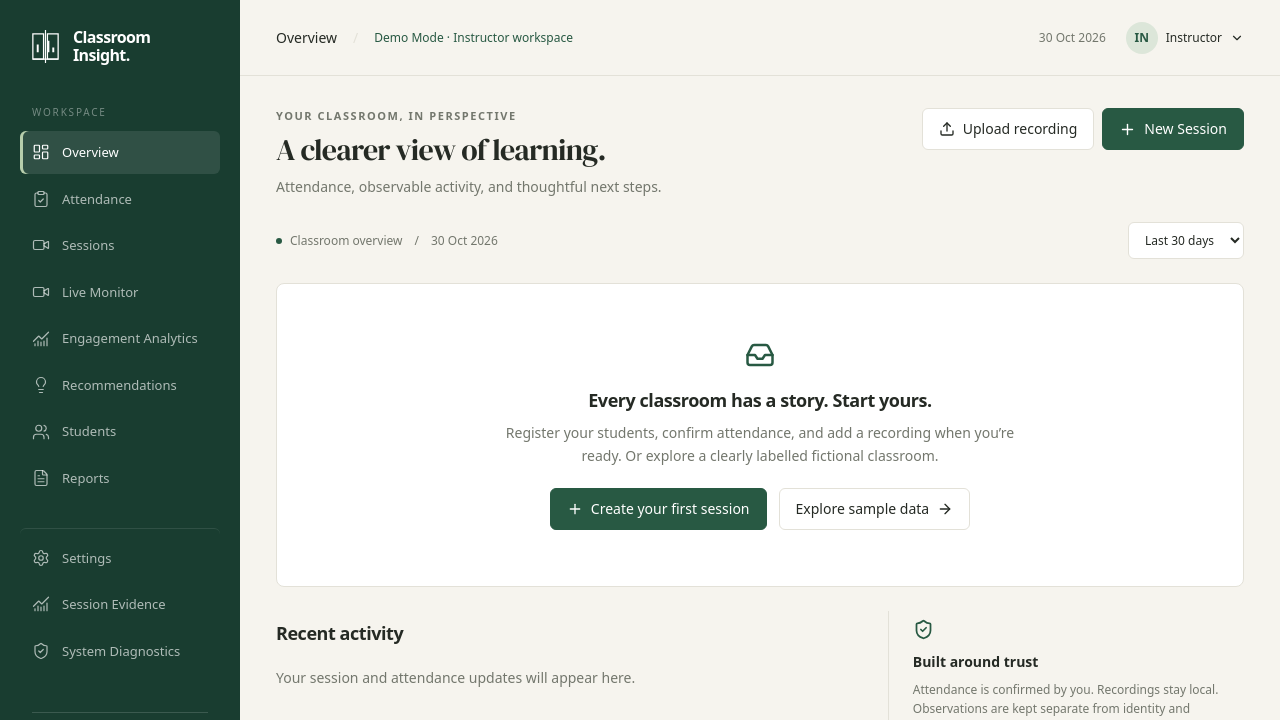
Test case: navigation opens Attendance
The width and height of the screenshot is (1280, 720).
Expected: the heading "A clearer view of learning." is shown, left=276, top=132, right=662, bottom=168
What coordinates should you click on to do the following:
click the link "Attendance"
I would click on:
 (82, 199)
Its box is left=32, top=190, right=132, bottom=208.
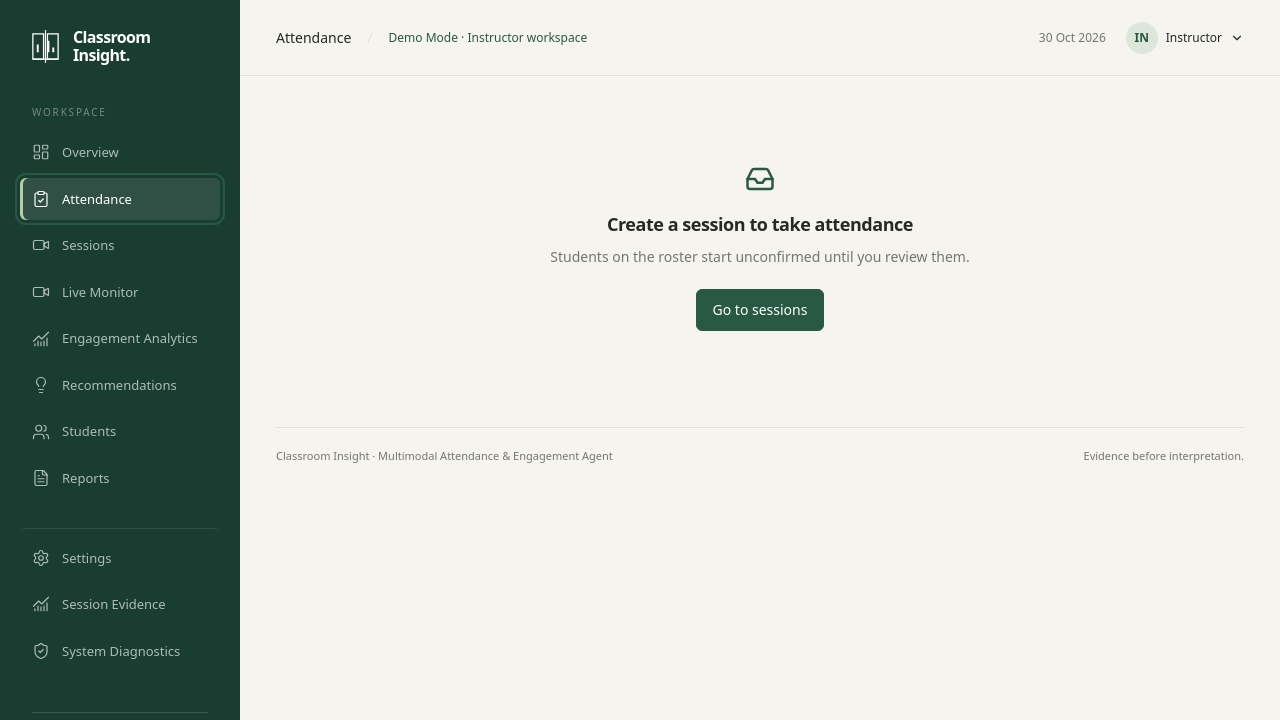
Result: the heading "Create a session to take attendance" is shown at left=607, top=212, right=913, bottom=236
